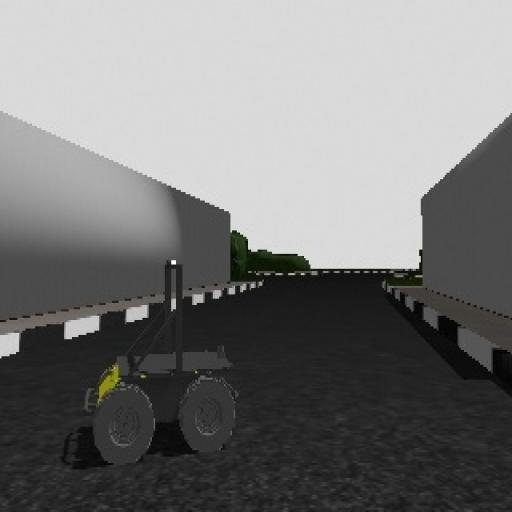huskya200: (60, 256, 266, 455)
